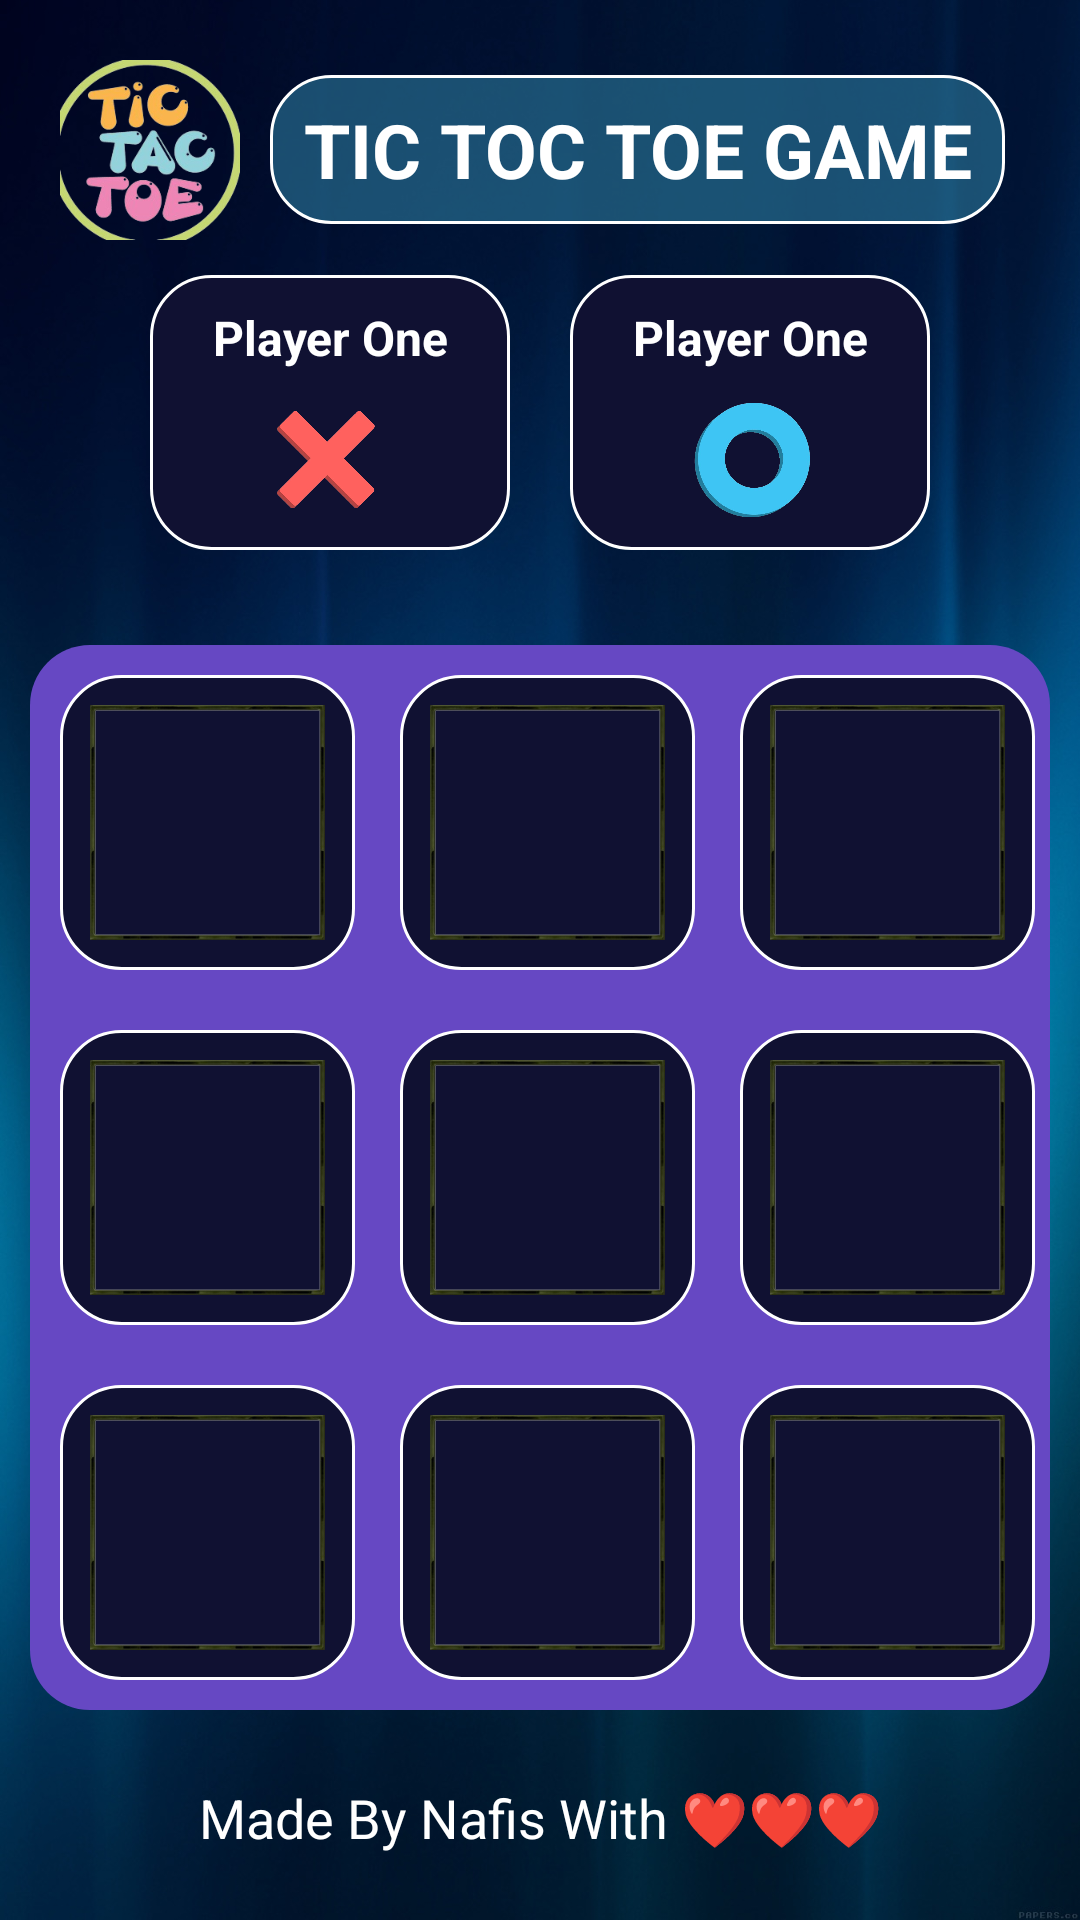

Where to tap for icons on this 1080w x 1920h app screen, as (x=x, y=y):
circle tictok: (x=752, y=460)
first tictok: (x=326, y=459)
